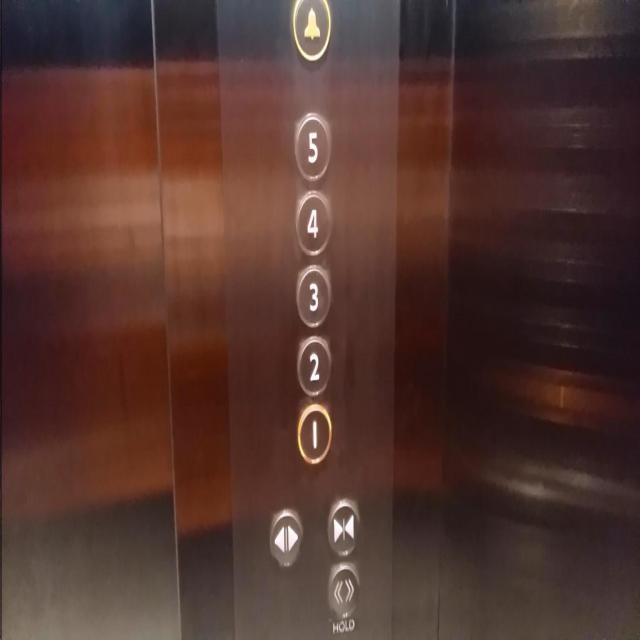1: (296, 401, 332, 467)
2: (294, 332, 333, 396)
3: (293, 262, 333, 330)
4: (293, 188, 333, 260)
5: (291, 109, 332, 185)
alarm: (291, 0, 332, 65)
close: (326, 495, 360, 559)
open: (268, 504, 304, 570), (326, 562, 361, 620)
